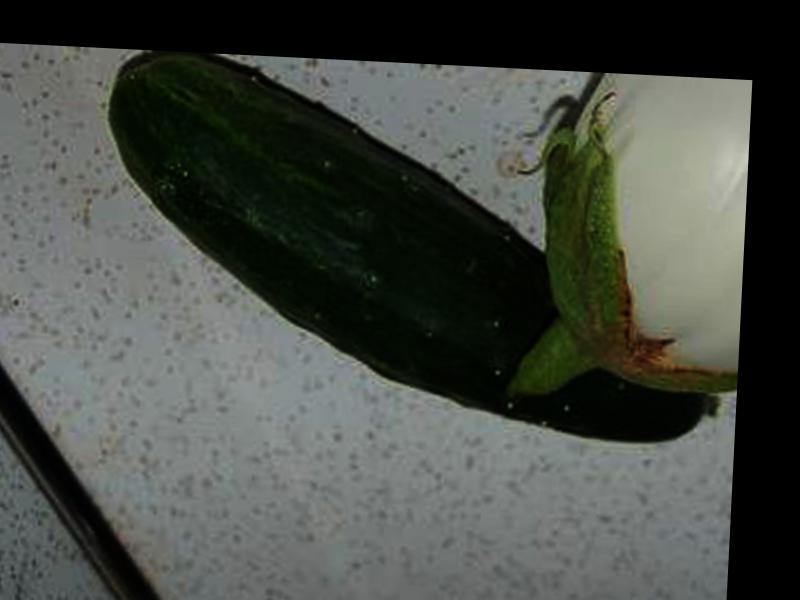Cucumber: (95, 48, 735, 444)
